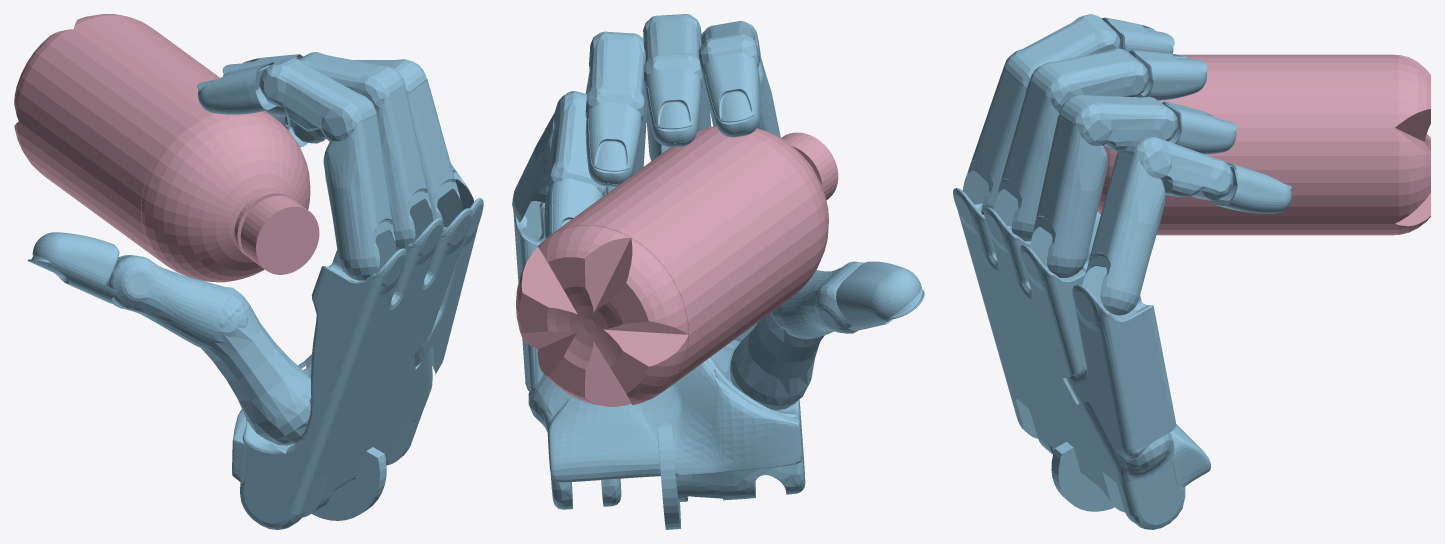
The picture shows the model from 3 angles, left to right: view 1: azimuth 30°, elevation 25°; view 2: azimuth 150°, elevation 25°; view 3: azimuth 270°, elevation 25°; orthographic projection. The views are drawn at different scales.
Visible parts, largest first — view 1: world; view 2: world; view 3: world.
Boxes of the visible parts, <box> form: world: <box>14,14,483,529</box>; world: <box>512,14,924,529</box>; world: <box>953,14,1430,529</box>.
Bounding box in the file's own units: 0.1588 × 0.1711 × 0.1593.
